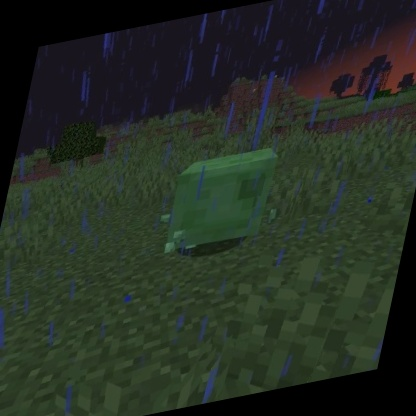slime: (155, 140, 288, 261)
